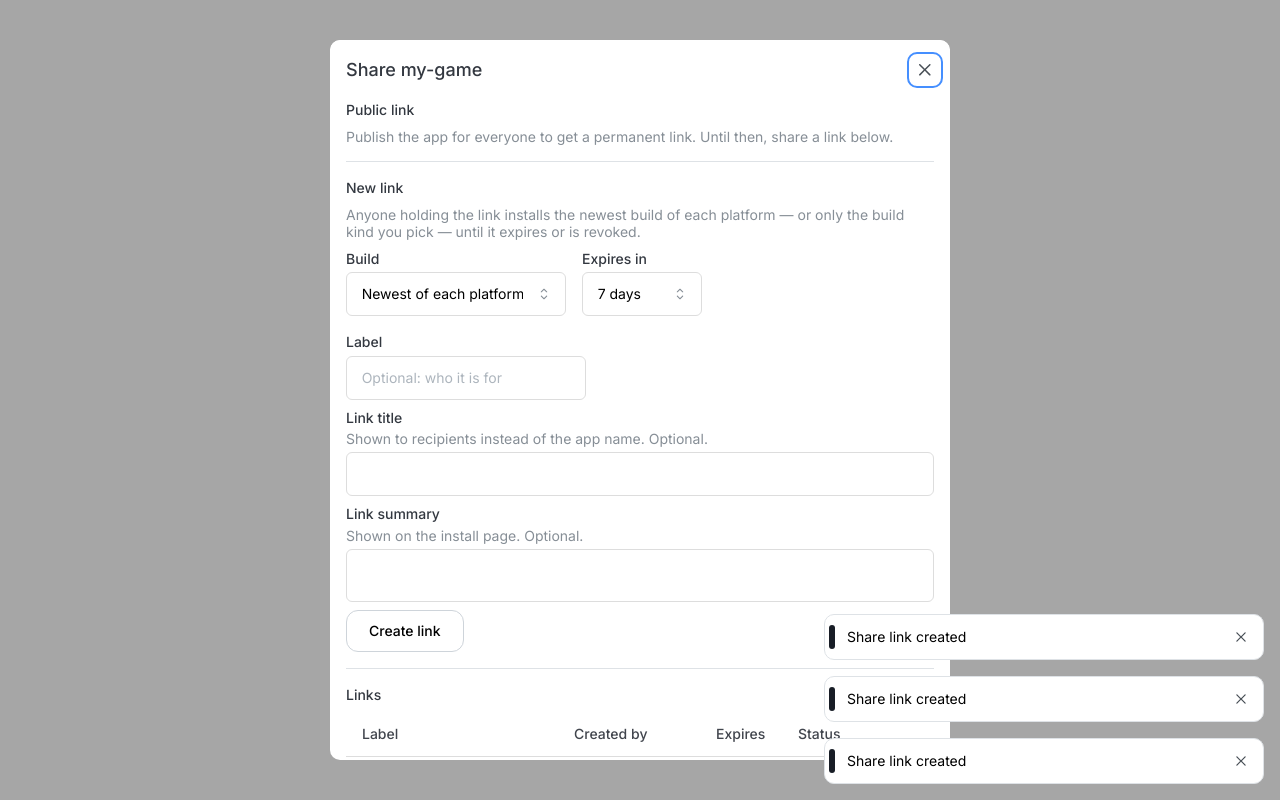
ShareModal › explains the live-link cap on a 409
Click the button "Create link": (405, 631) [346,610,464,652]
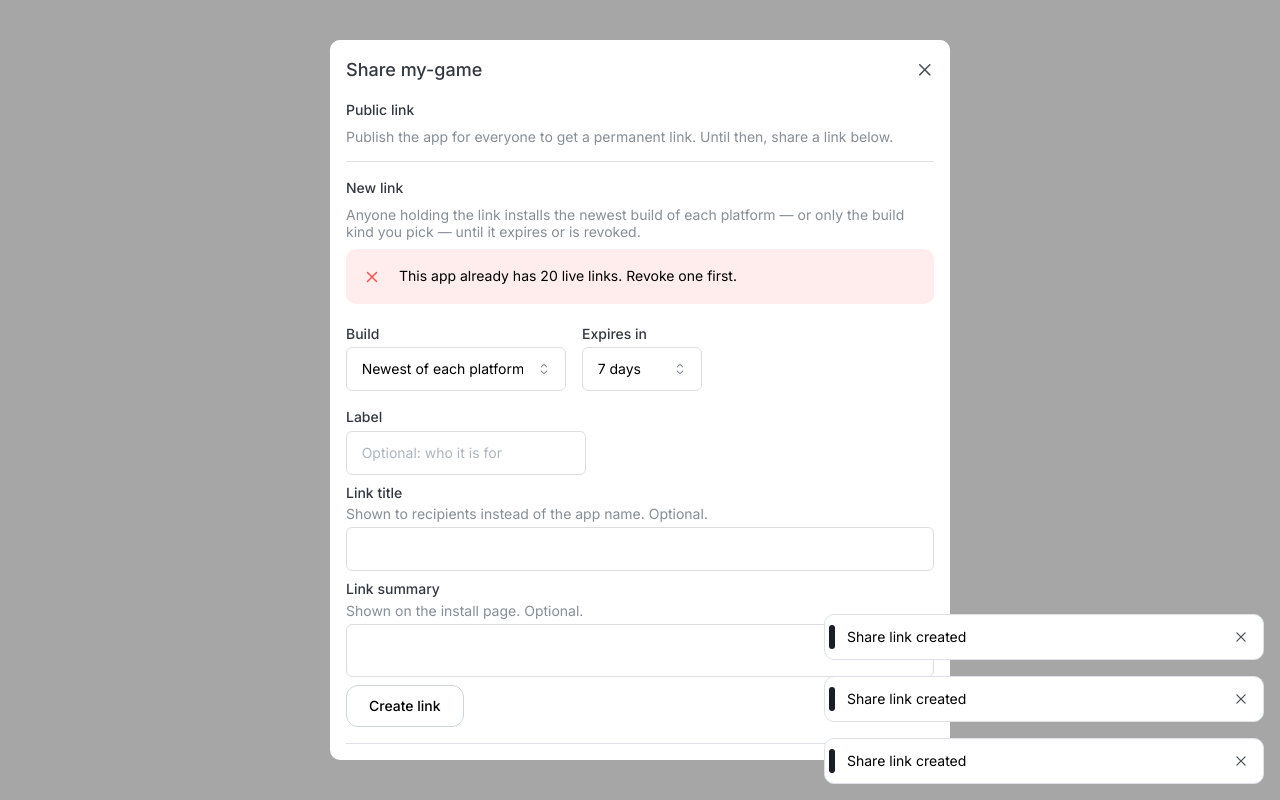
Expected: the text "This app already has 20 live links. Revoke one first." is shown, [399,267,737,284]
